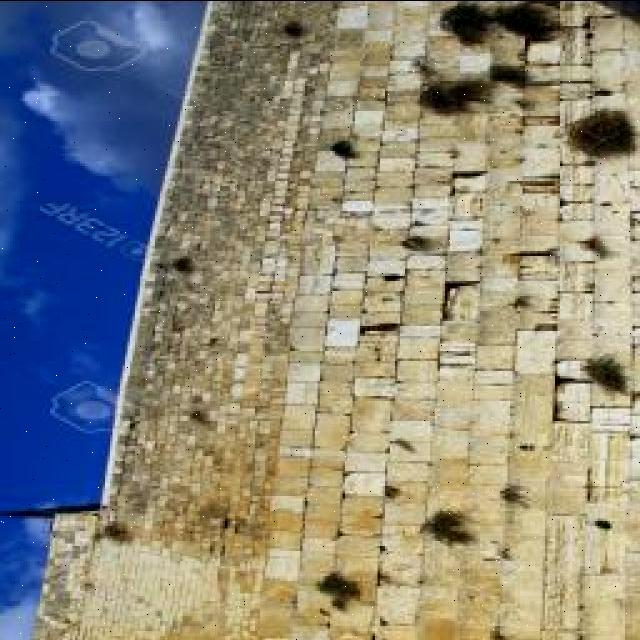crack: (591, 44, 635, 93), (591, 166, 633, 216), (518, 144, 564, 182), (448, 139, 493, 174), (444, 251, 489, 282), (368, 204, 413, 234), (447, 221, 485, 255), (409, 197, 451, 226), (350, 106, 388, 136), (286, 362, 323, 391), (525, 40, 564, 67), (456, 50, 493, 78), (333, 4, 370, 30), (367, 257, 409, 279), (404, 253, 448, 273), (341, 199, 377, 217)
dampness: (109, 241, 287, 554)
vegetation: (568, 108, 634, 157), (420, 76, 505, 112), (153, 253, 205, 300), (488, 62, 532, 87)
